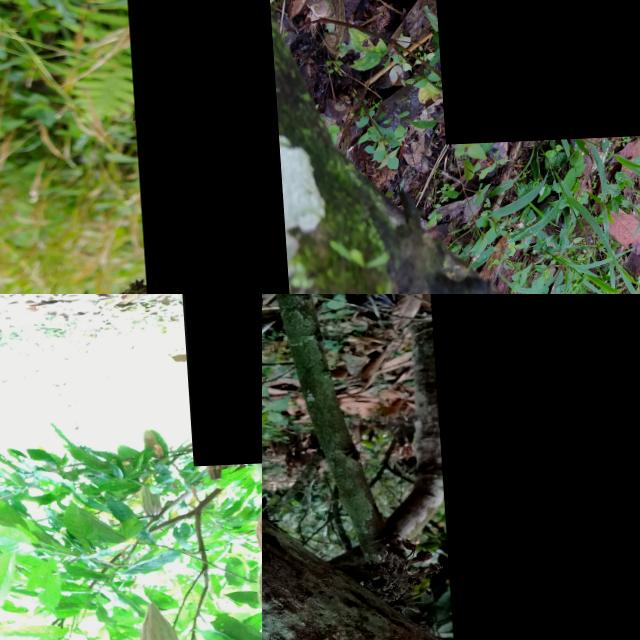Fitoftora: (117, 0, 262, 294), (427, 0, 640, 146), (172, 294, 262, 468)
Monilia: (427, 294, 640, 640)
Sana: (122, 604, 187, 640)
